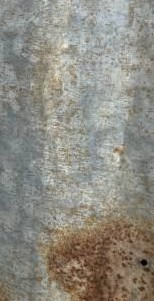Corrosion: (39, 210, 154, 301)
Spalling: (139, 258, 149, 267)
